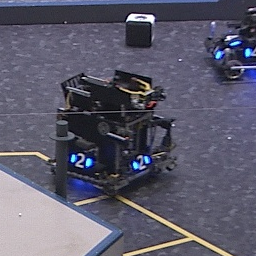Blue: (67, 152, 92, 170), (220, 30, 242, 47), (130, 154, 151, 171), (243, 44, 256, 59)
Robot: (54, 71, 179, 194), (204, 7, 256, 82)
